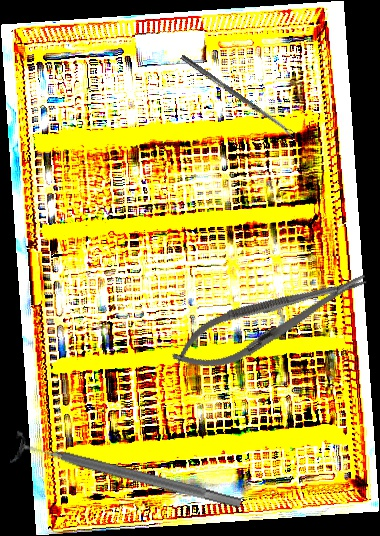Fixation Ring: (8, 428, 246, 522)
Needle Holder: (164, 256, 377, 385)
Surgical Spoon: (179, 54, 296, 138)
